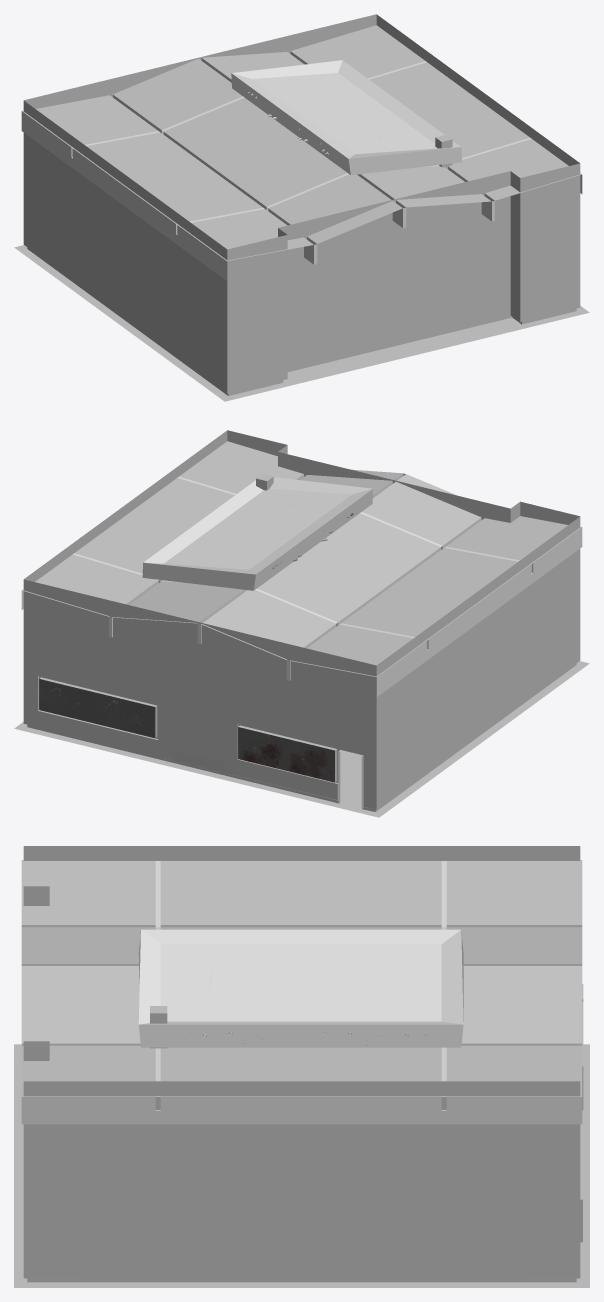
Rendered from m_ext_s_cafe.fbx.
3 renders of one model, top to bottom at view 1: azimuth 30°, elevation 25°; view 2: azimuth 150°, elevation 25°; view 3: azimuth 270°, elevation 25°, orthographic. The views are drawn at different scales.
Visible parts, largest first — view 1: m_walls, m_ceiling, m_floor, m_walls.005, m_walls.001; view 2: m_walls, m_ceiling, m_floor, m_walls.004, m_walls.001; view 3: m_ceiling, m_walls, m_floor, m_walls.002.
Boxes of the visible parts, x1,y1,x2,y2 form: m_walls: (23, 14, 580, 395); m_ceiling: (21, 25, 582, 280); m_floor: (14, 245, 589, 401); m_walls.005: (369, 285, 417, 352); m_walls.001: (112, 257, 140, 331); m_walls: (23, 430, 580, 811); m_ceiling: (21, 441, 582, 696); m_floor: (14, 661, 589, 817); m_walls.004: (175, 707, 225, 775); m_walls.001: (463, 673, 491, 747); m_ceiling: (21, 860, 582, 1124); m_walls: (23, 846, 583, 1282); m_floor: (14, 1044, 589, 1287); m_walls.002: (266, 1204, 337, 1282).
Size of the model in its own units: 1500 by 662 by 1500.
